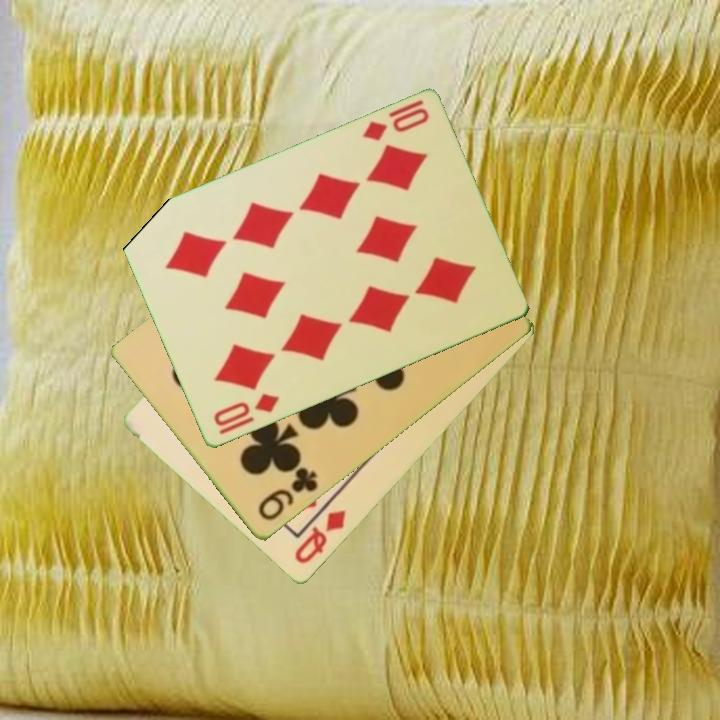10d: (358, 96, 432, 145), (209, 390, 283, 438)
9c: (254, 464, 321, 524)
Qd: (290, 506, 349, 567)
